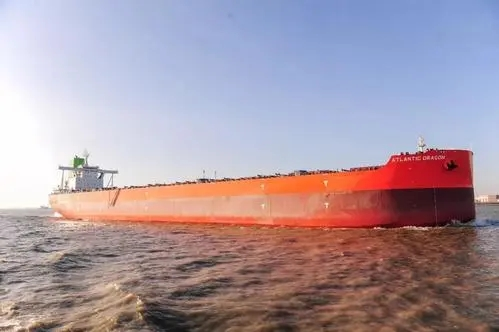Cargoship: (36, 141, 488, 232)
